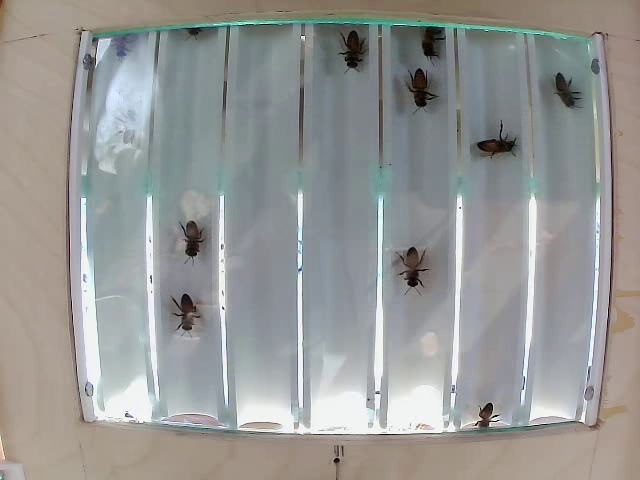bee: (169, 290, 209, 341), (339, 32, 379, 81), (394, 243, 428, 291), (545, 67, 573, 122), (180, 221, 212, 268), (473, 126, 510, 164), (403, 66, 430, 115), (418, 19, 445, 67), (478, 398, 501, 438)
